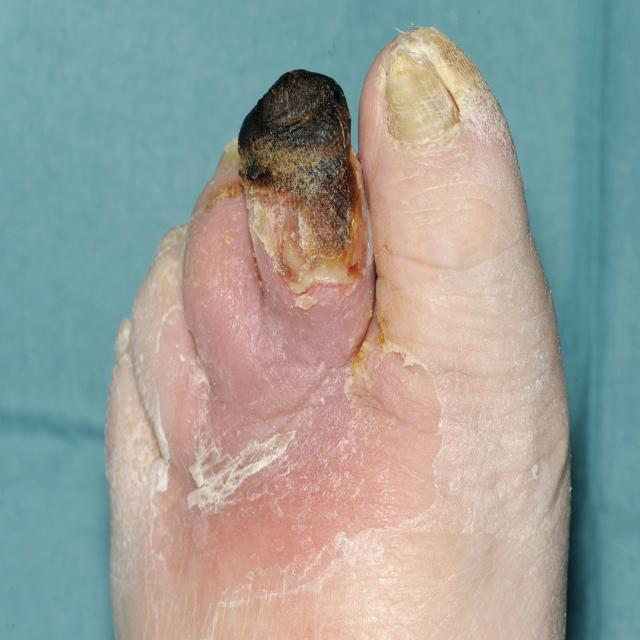wound: (237, 68, 366, 309)
